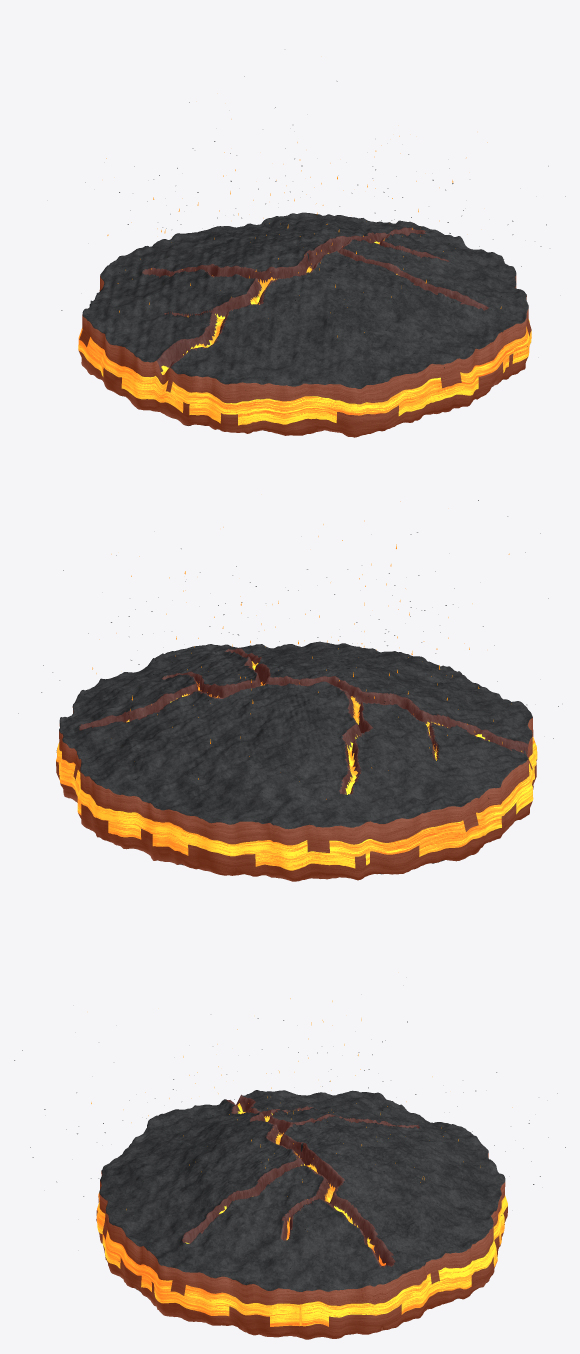
Rendered from Vesuvius_V52.glb.
3 views of the same model, one above another, from view 1: azimuth 30°, elevation 25°; view 2: azimuth 150°, elevation 25°; view 3: azimuth 270°, elevation 25° (orthographic). The views are drawn at different scales.
Visible parts, largest first — view 1: Vesuvius_V52_PhysicallyCarved_DualFaceDisc; view 2: Vesuvius_V52_PhysicallyCarved_DualFaceDisc; view 3: Vesuvius_V52_PhysicallyCarved_DualFaceDisc.
Boxes of the visible parts, bbox=[...] form: Vesuvius_V52_PhysicallyCarved_DualFaceDisc: bbox=[78, 212, 531, 437]; Vesuvius_V52_PhysicallyCarved_DualFaceDisc: bbox=[56, 641, 537, 881]; Vesuvius_V52_PhysicallyCarved_DualFaceDisc: bbox=[96, 1090, 507, 1339].
Bounding box in the file's own units: 0.8745 × 0.5265 × 0.8976.
Materials: 8 (6 with a texture image).
